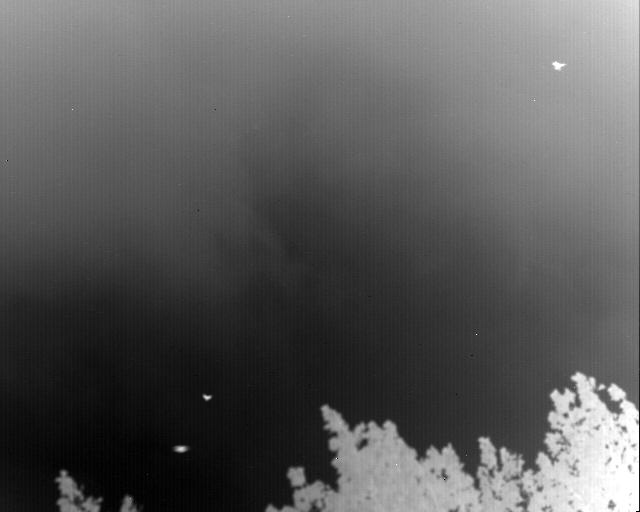plane: (551, 60, 567, 71), (202, 394, 213, 401)
